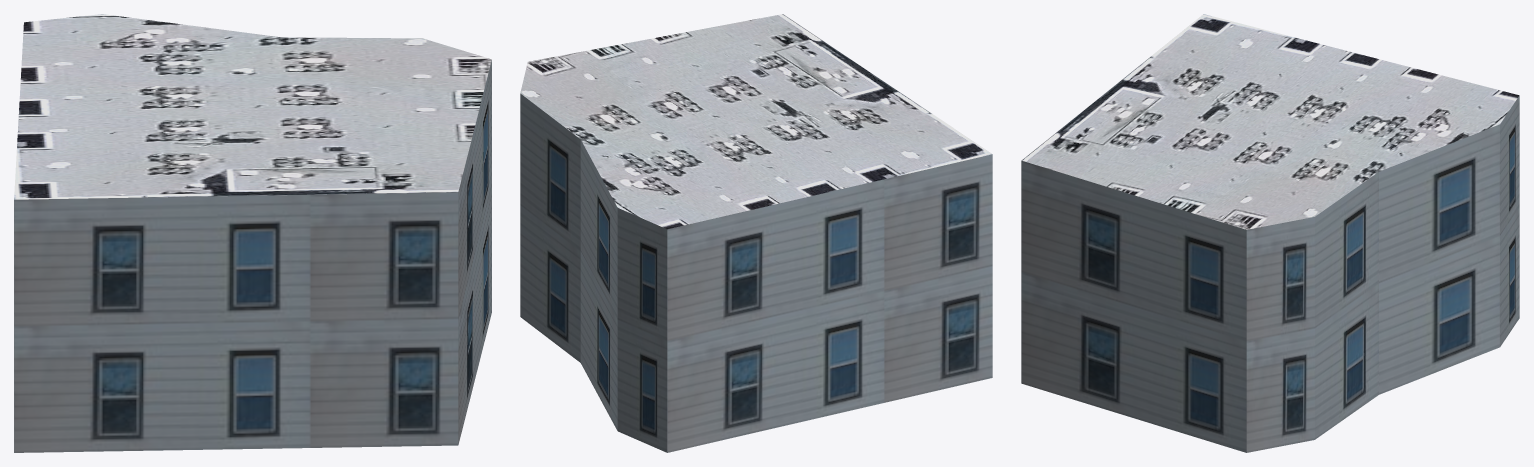
Rendered from ResTex__1130.fbx.
3 views of the same model, side by side, from view 1: azimuth 30°, elevation 25°; view 2: azimuth 150°, elevation 25°; view 3: azimuth 270°, elevation 25° (orthographic). The views are drawn at different scales.
Parts seen in each view (by area): view 1: CityEngineMaterial_18_m, CityEngineMaterial_8_m; view 2: CityEngineMaterial_18_m, CityEngineMaterial_8_m; view 3: CityEngineMaterial_18_m, CityEngineMaterial_8_m.
Part boxes in pixels (box(x1,y1,x2,y2)): CityEngineMaterial_18_m: box(14, 60, 491, 452); CityEngineMaterial_8_m: box(14, 14, 491, 199); CityEngineMaterial_18_m: box(520, 93, 992, 452); CityEngineMaterial_8_m: box(520, 14, 992, 229); CityEngineMaterial_18_m: box(1021, 95, 1519, 452); CityEngineMaterial_8_m: box(1021, 14, 1519, 229).
Bounding box in the file's own units: 12.45 × 6 × 12.14.
2 materials, 2 textured.
